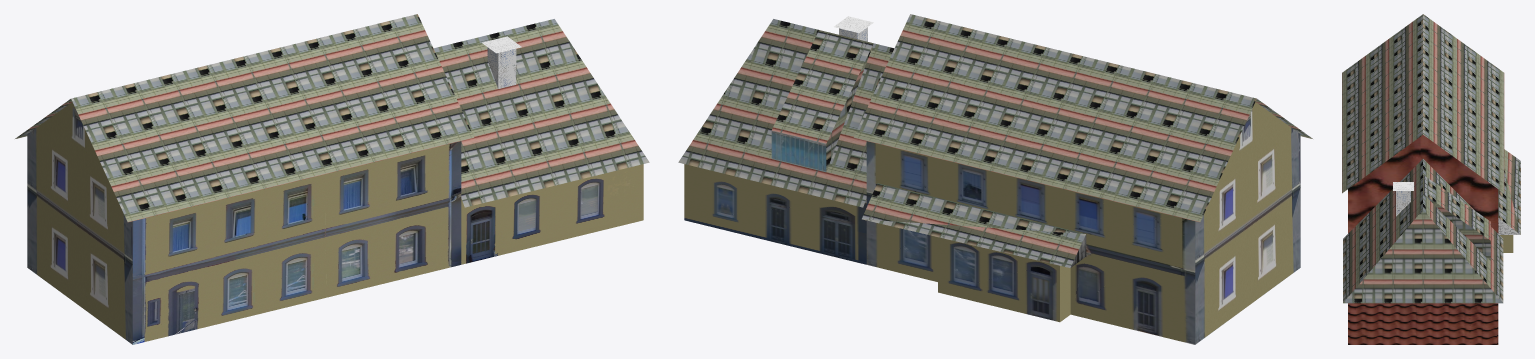
The model's file is KoPf_Reichenau_Empfang_lod2.dae.
3 views of the same model, side by side, from view 1: azimuth 30°, elevation 25°; view 2: azimuth 150°, elevation 25°; view 3: azimuth 270°, elevation 25° (orthographic). The views are drawn at different scales.
Visible parts, largest first — view 1: SketchUp (×8); view 2: SketchUp (×9); view 3: SketchUp (×10).
Part boxes in pixels (bbox=[...]): SketchUp (×8): bbox=[15, 14, 649, 344]; SketchUp (×9): bbox=[678, 14, 1312, 344]; SketchUp (×10): bbox=[1342, 14, 1520, 344].
Size of the model in its own units: 1127 by 468 by 433.
